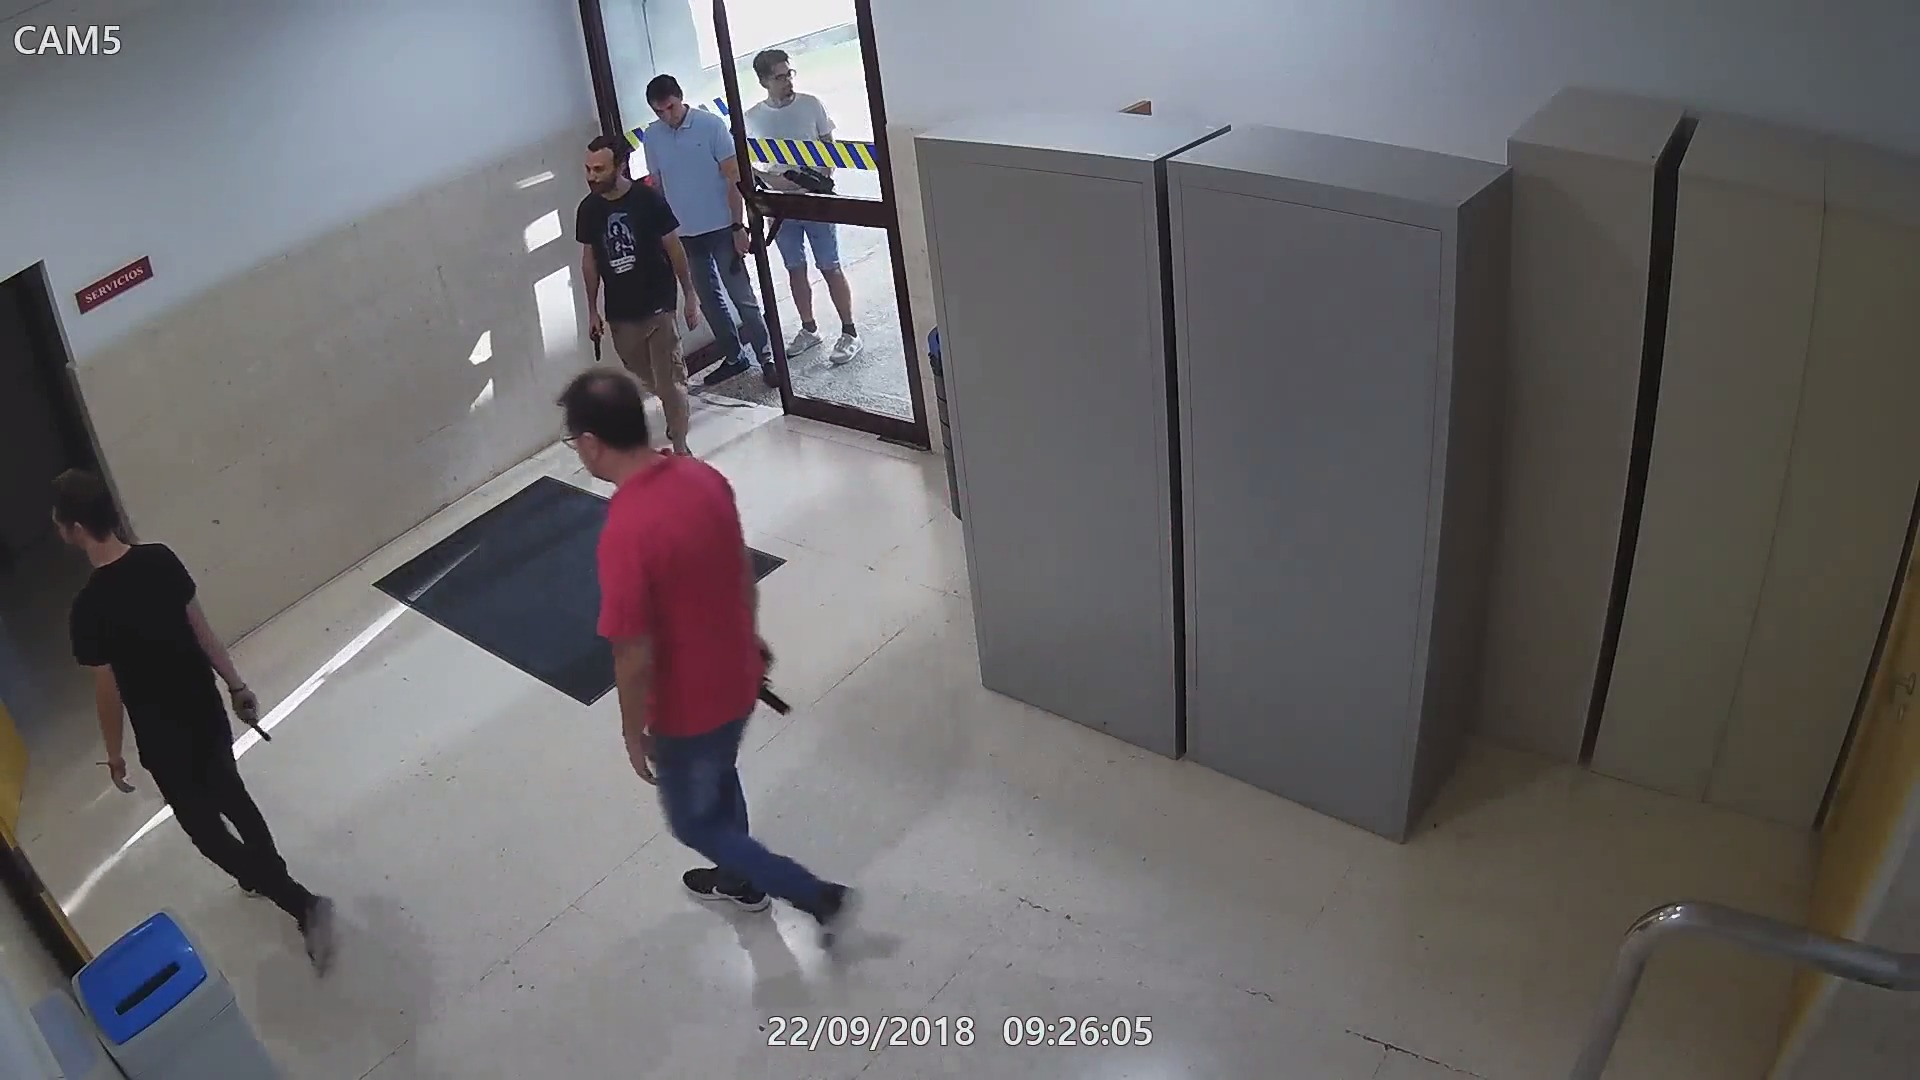Handgun: (760, 626, 798, 716), (224, 683, 276, 745), (583, 314, 611, 357)
Short_rifle: (773, 165, 851, 194)
